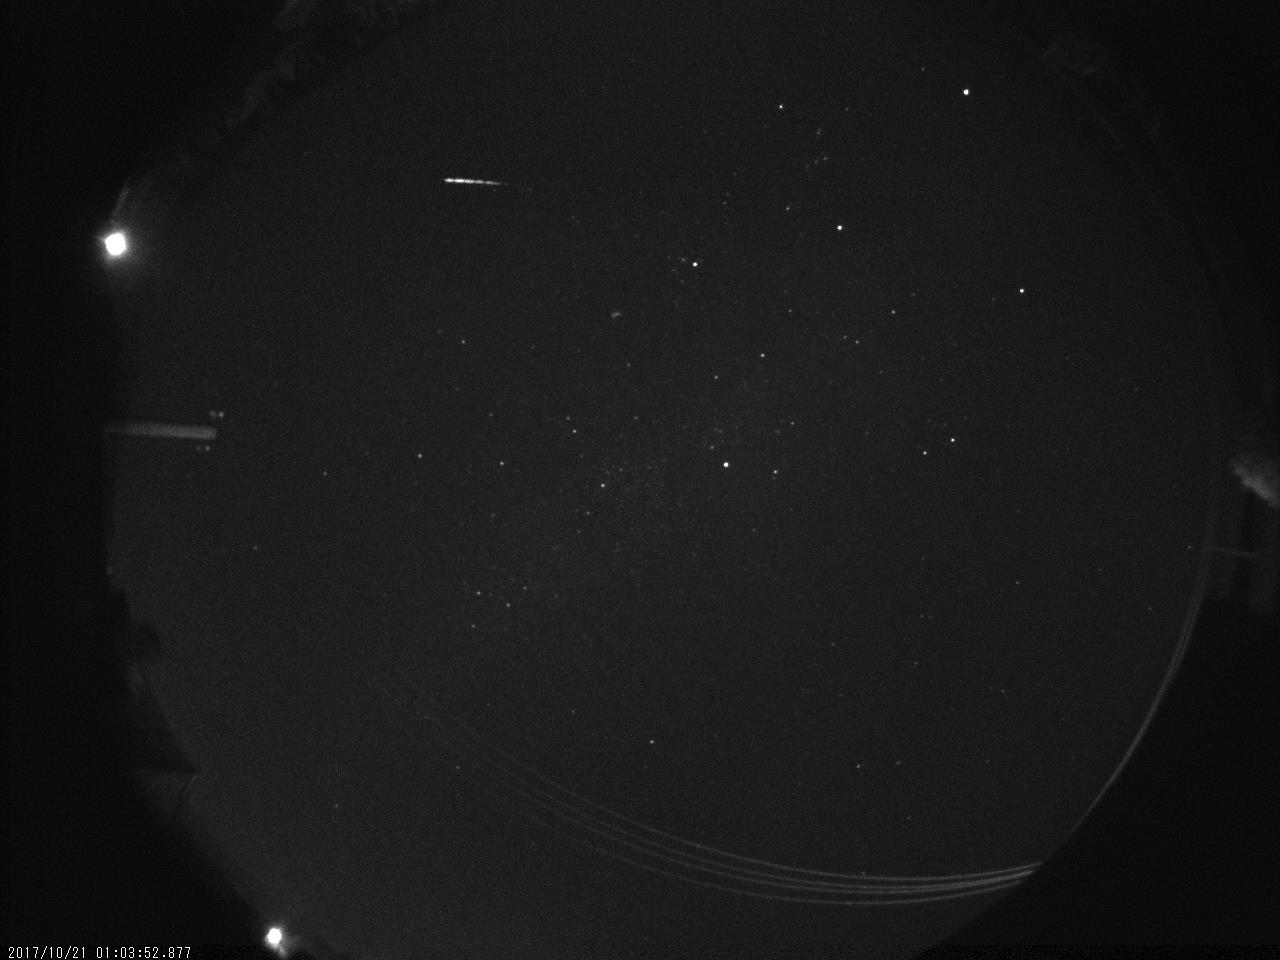meteor: (411, 160, 532, 204)
